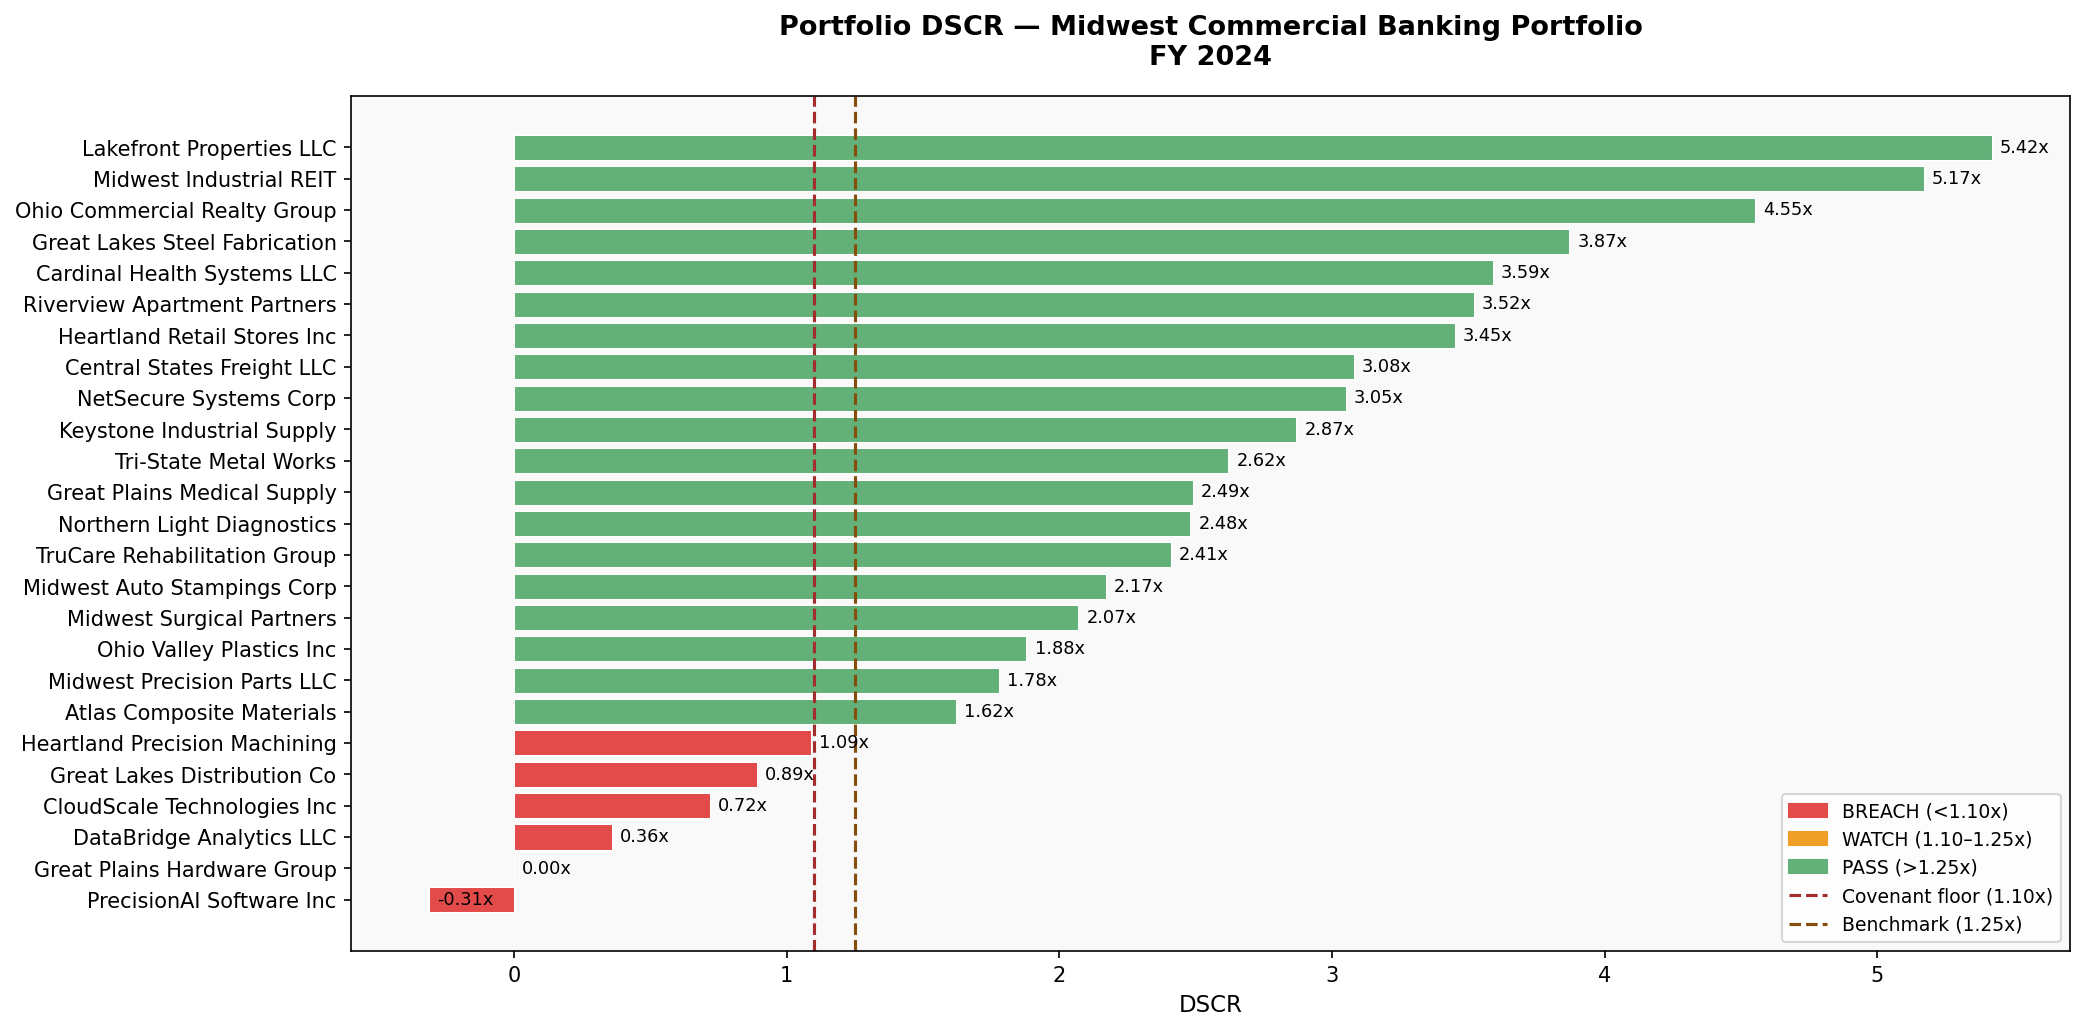

The page's visual inventory and layout, read from the dashboard file:
{"tool":"powerbi","page":{"name":"Page 3","canvas":[1280,720],"ordinal":2},"visuals":[{"type":"textbox","box":[304,0,672,64],"z":0},{"type":"slicer","fields":{"Values":["borrowers_data.company_name"]},"box":[16,96,400,176],"z":1},{"type":"tableEx","fields":{"Values":["borrowers_data.industry","borrowers_data.company_name","borrowers_data.loan_amount","borrowers_data.dscr","borrowers_data.debt_to_ebitda","borrowers_data.risk_rating","borrowers_data.loan_status","borrowers_data.Watchlist Status","borrowers_data.Decision Label"]},"box":[432,80,832,608],"z":2},{"type":"clusteredBarChart","title":"DSCR by Borrower","fields":{"Category":["borrowers_data.company_name"],"Y":["Min(borrowers_data.dscr)"]},"box":[16,288,400,384],"z":3}]}

Visuals, with their boxes on the page's 1280x720 design canvas (x1, y1, x2, y2). These are canvas units, not pixel positions in the 2084x1032 screenshot, which may show the page scaled, cropped or inside an application window:
textbox: [x1=304, y1=0, x2=976, y2=64]
slicer - borrowers_data.company_name: [x1=16, y1=96, x2=416, y2=272]
tableEx - borrowers_data.industry x borrowers_data.company_name: [x1=432, y1=80, x2=1264, y2=688]
"DSCR by Borrower" clusteredBarChart: [x1=16, y1=288, x2=416, y2=672]
